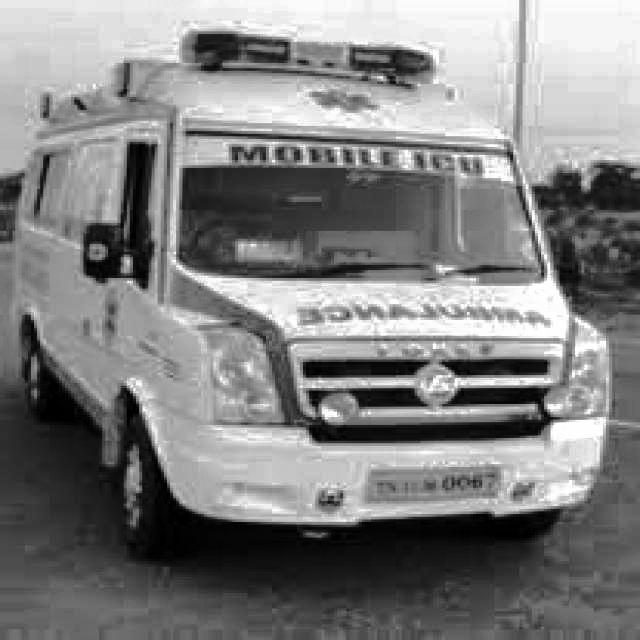LCV: (79, 29, 612, 523)
